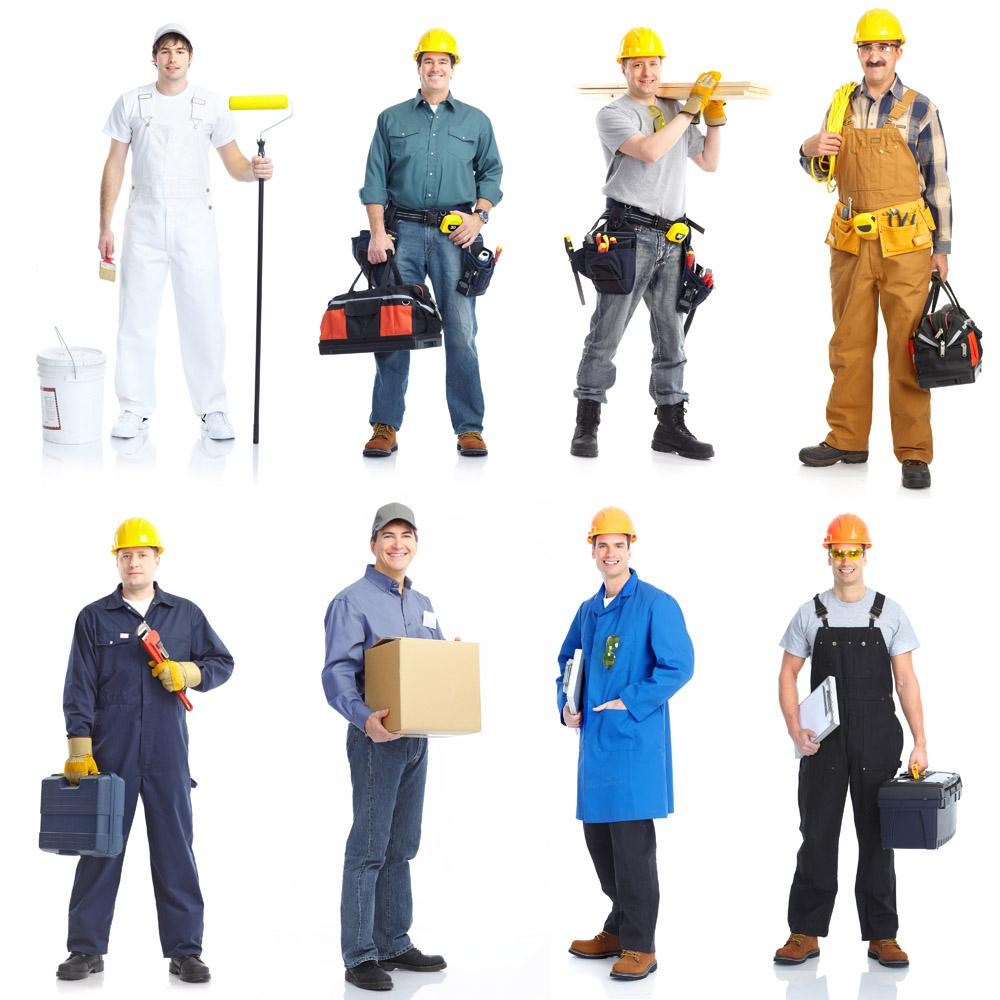helmet: (617, 26, 669, 67), (853, 9, 909, 47), (111, 519, 166, 557), (588, 507, 640, 546), (822, 514, 875, 552), (413, 29, 463, 65)
